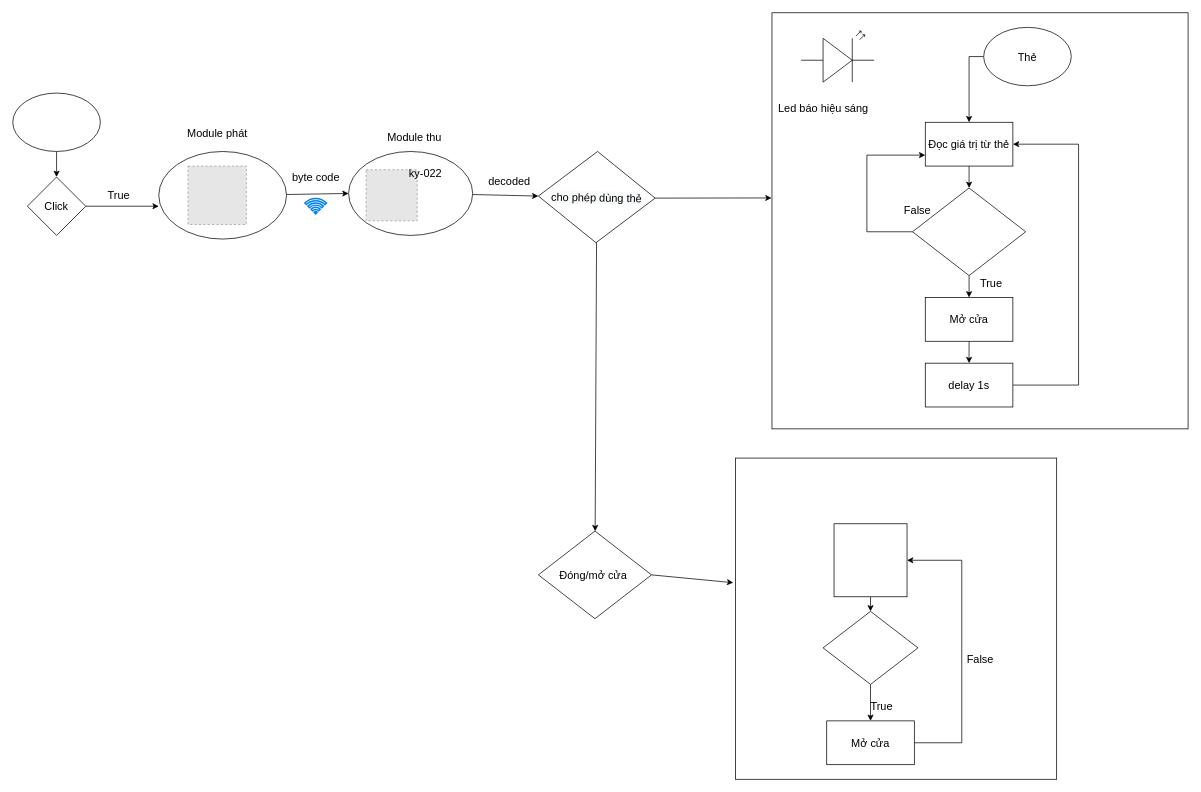
Image size: 1201x792. Some labels were removed from this diagram. Grey dashed boxes stand in for pictures. Each missing label, with the box of its shape:
buttons: (12, 92, 100, 151)
Kiểm tra id thẻ: (912, 187, 1026, 276)
Kiểm tra trạng thái hiện tại của cửa: (833, 523, 907, 597)
Đóng ?: (822, 611, 918, 684)
